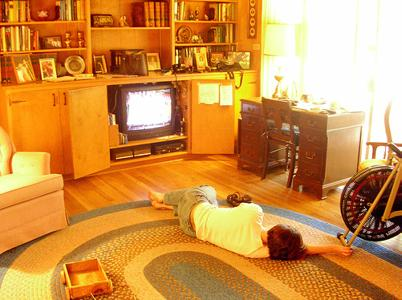person: (148, 186, 355, 261)
